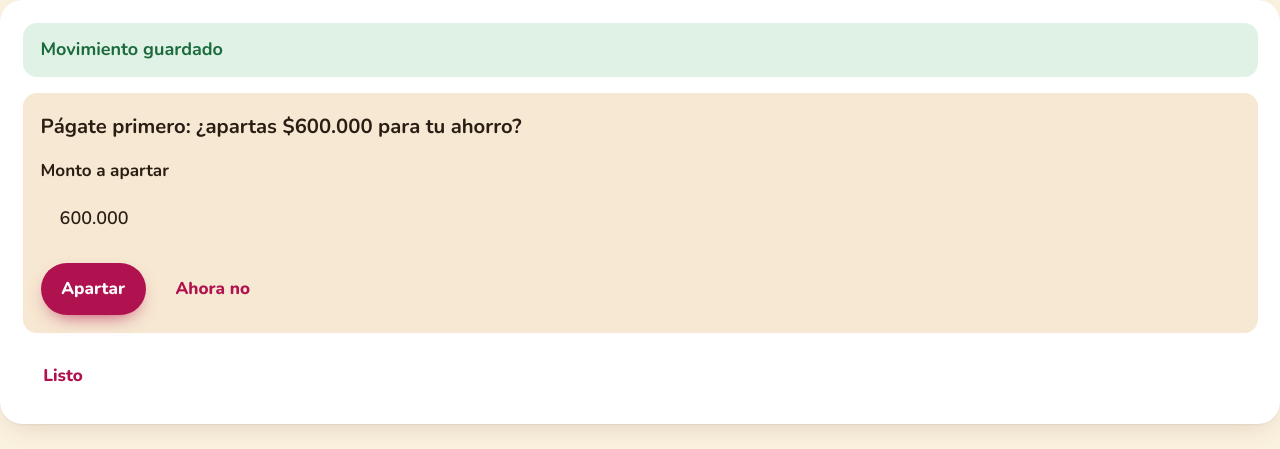
Scenario: SaveFeedback › creates the savings transfer when accepted, with the edited amount
The width and height of the screenshot is (1280, 449).
Replace the text in the field labelled "Monto a apartar" with "500.000" at (640, 219), box [40,191,1240,247]
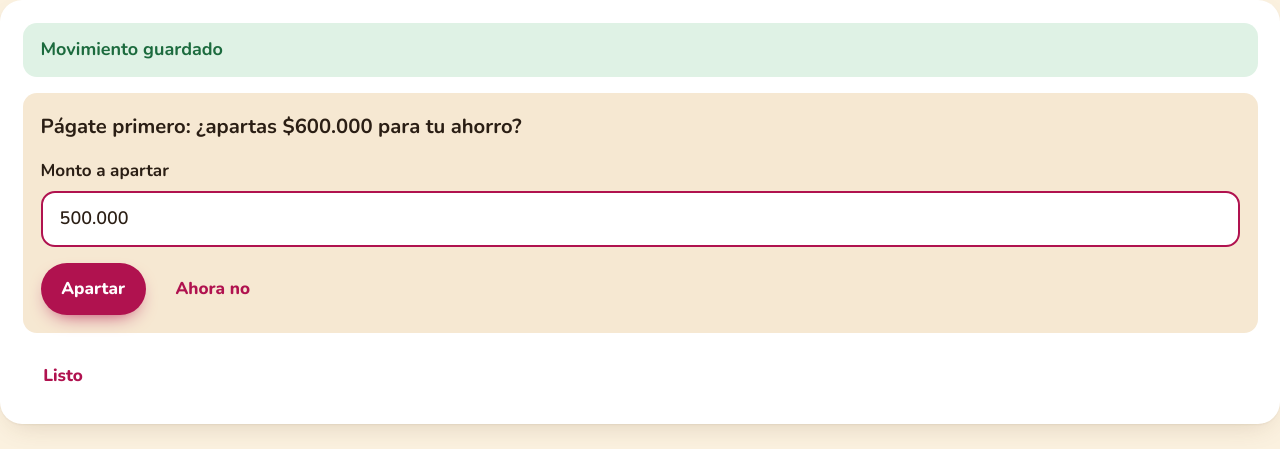
Click the button "Apartar" at (93, 289), box [40,263,146,315]
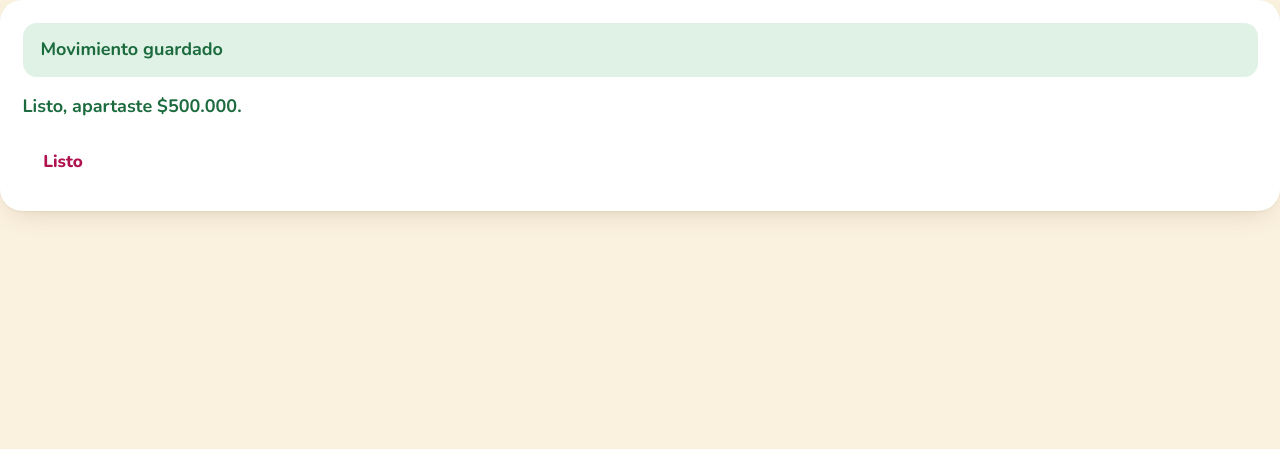
Expected: the text "Listo, apartaste $500.000." is shown, [22,94,242,118]
